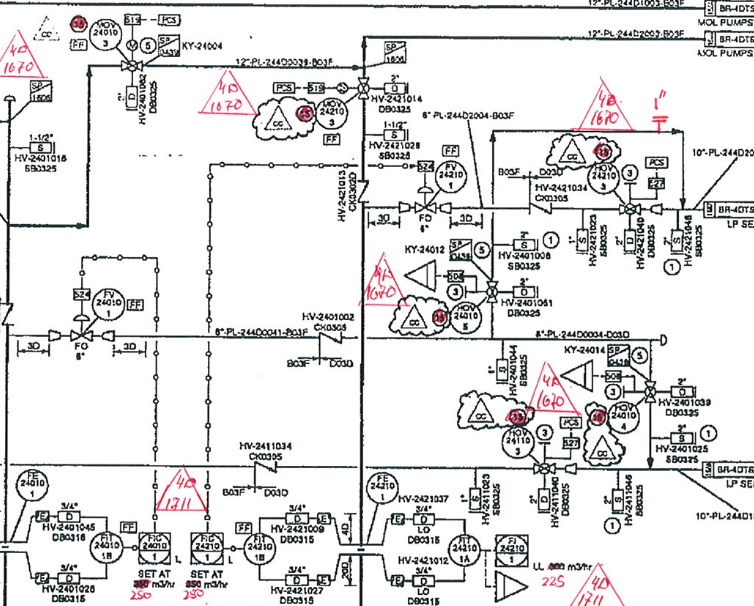Instrument: (88, 527, 127, 570), (91, 283, 130, 325), (87, 14, 123, 55), (15, 465, 51, 505), (432, 159, 470, 196), (446, 531, 482, 570), (584, 160, 623, 196), (242, 531, 279, 568), (500, 424, 535, 463), (365, 470, 401, 507), (448, 300, 484, 337), (312, 98, 351, 132)
Instrument-square: (135, 528, 176, 569), (493, 531, 533, 572), (185, 530, 228, 568)
